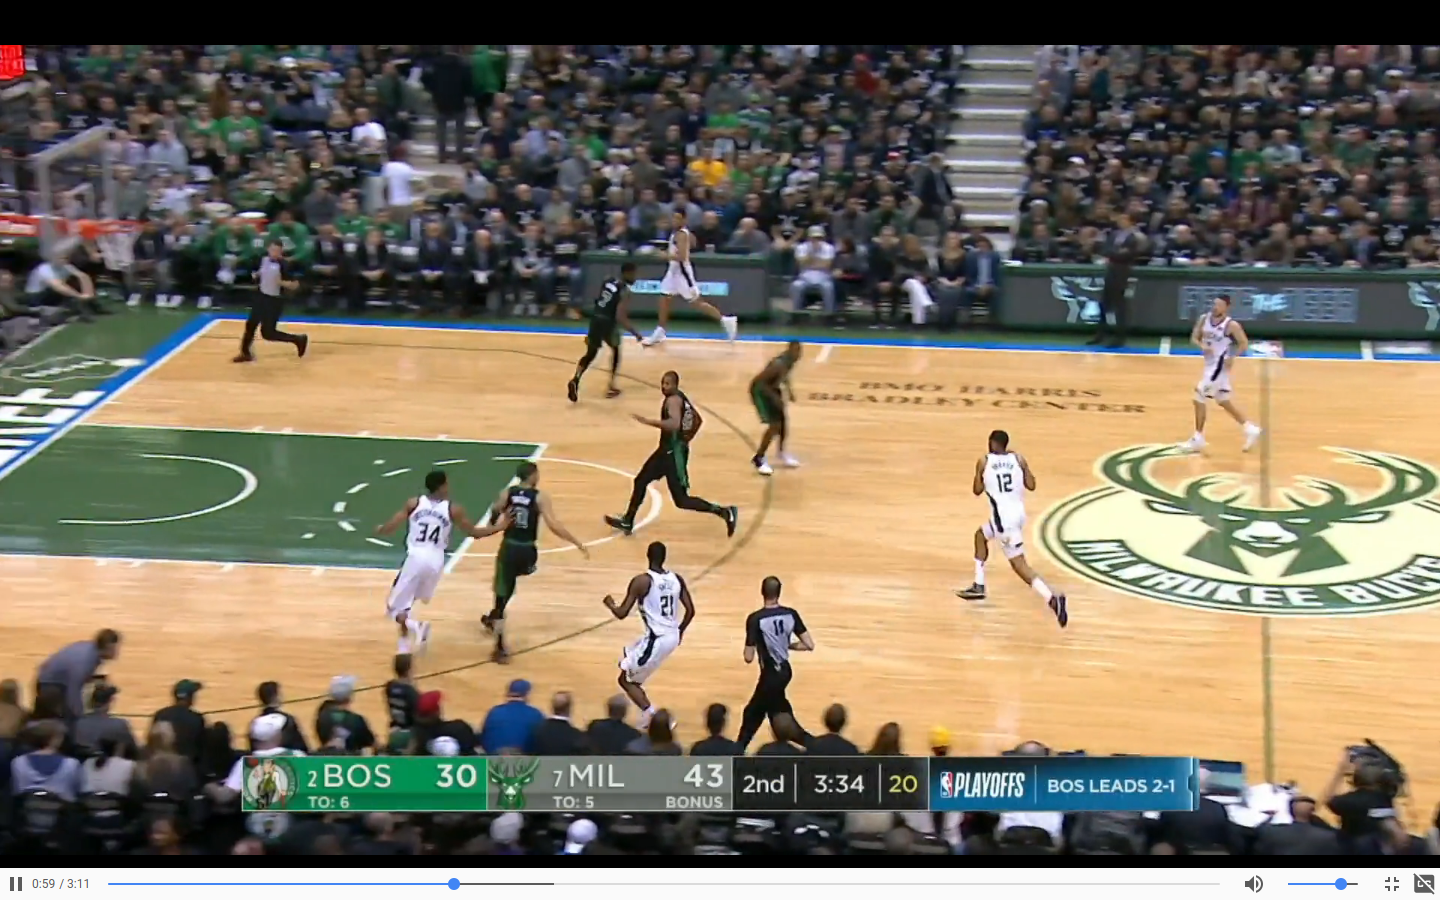basketball player: (955, 426, 1075, 640), (610, 366, 747, 549), (473, 460, 590, 674), (376, 465, 473, 686), (598, 548, 701, 722), (639, 202, 745, 359), (1181, 286, 1259, 456), (742, 328, 815, 483), (568, 259, 638, 405)
referee: (728, 571, 813, 737), (227, 231, 313, 369)
